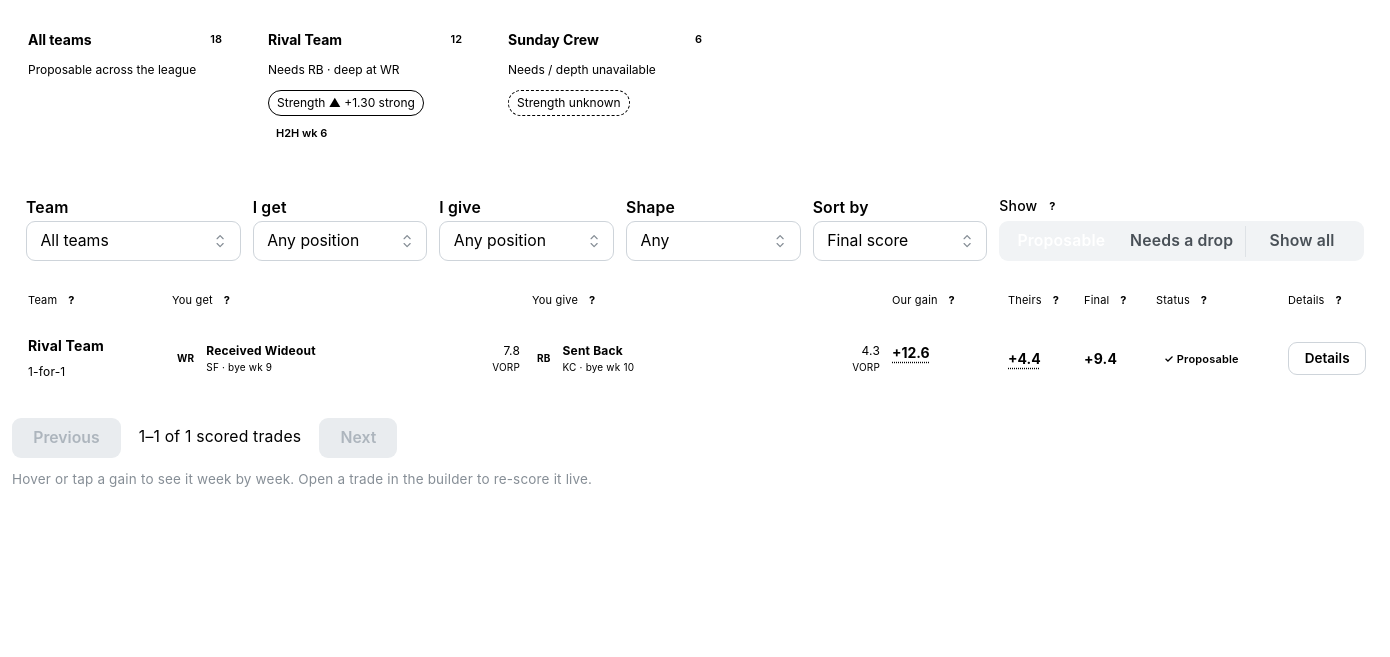
keeps a displaced starter visible as benched in the expanded lineup
Expected: the text "Received Wideout" is shown, [206,343,316,358]
Step 1. Click the button "Details" → [1327, 358], box [1288,342,1366,375]
(page scrolled)
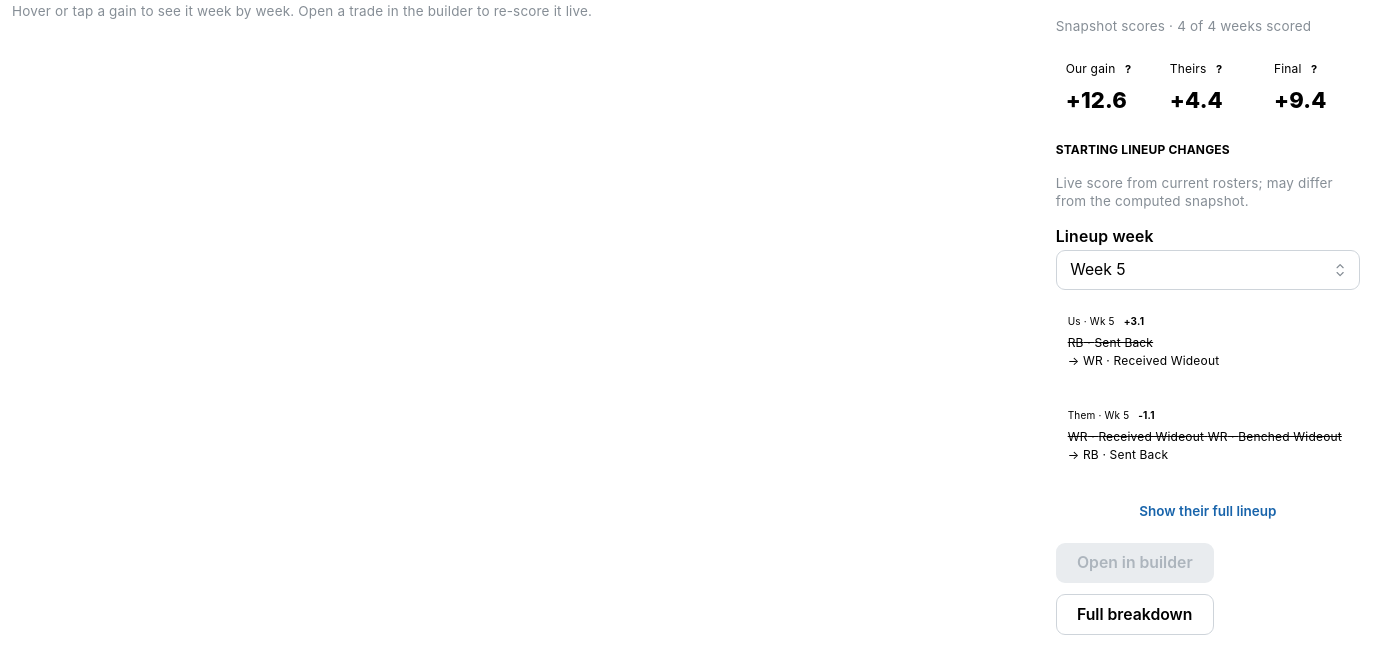
Step 2. Click the button "Show their full lineup" → [1208, 512], box [1056,495,1360,529]
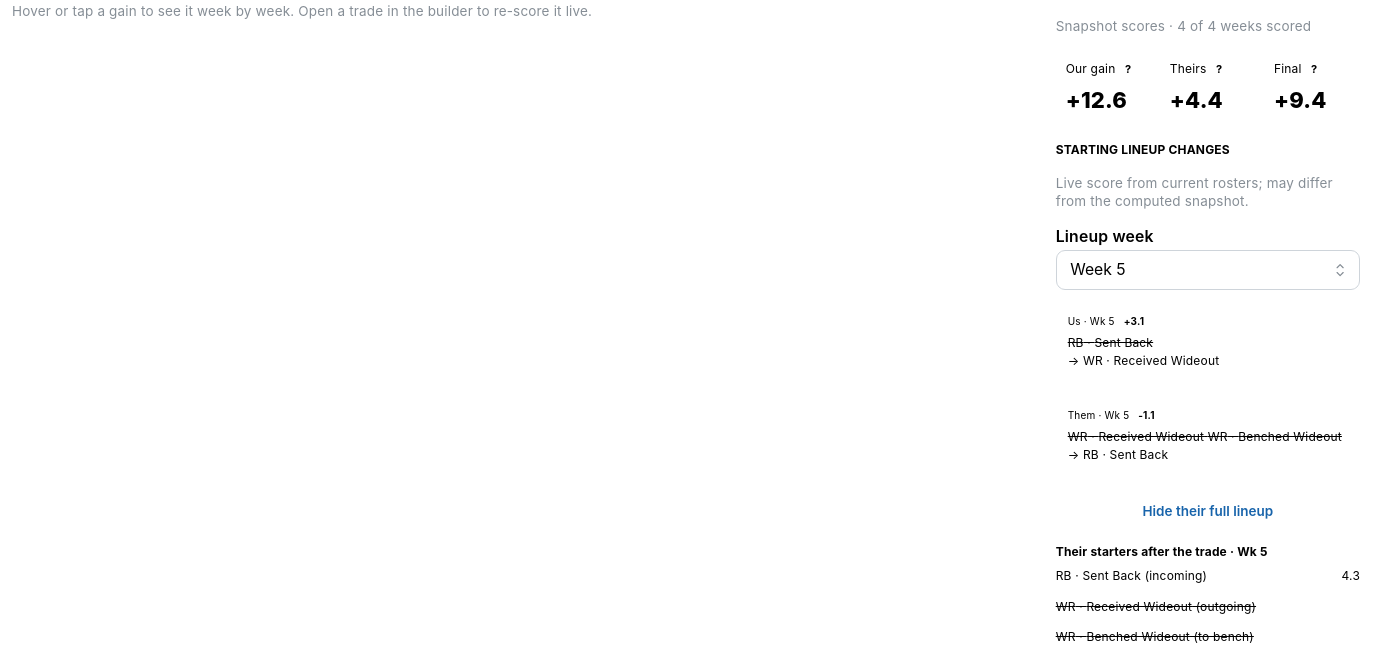
Now the text "WR · Benched Wideout (to bench)" is shown, box [1056,629,1254,644]
